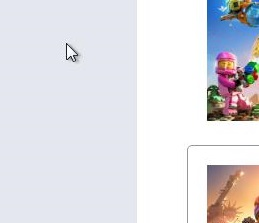cursor: (64, 41, 78, 62)
